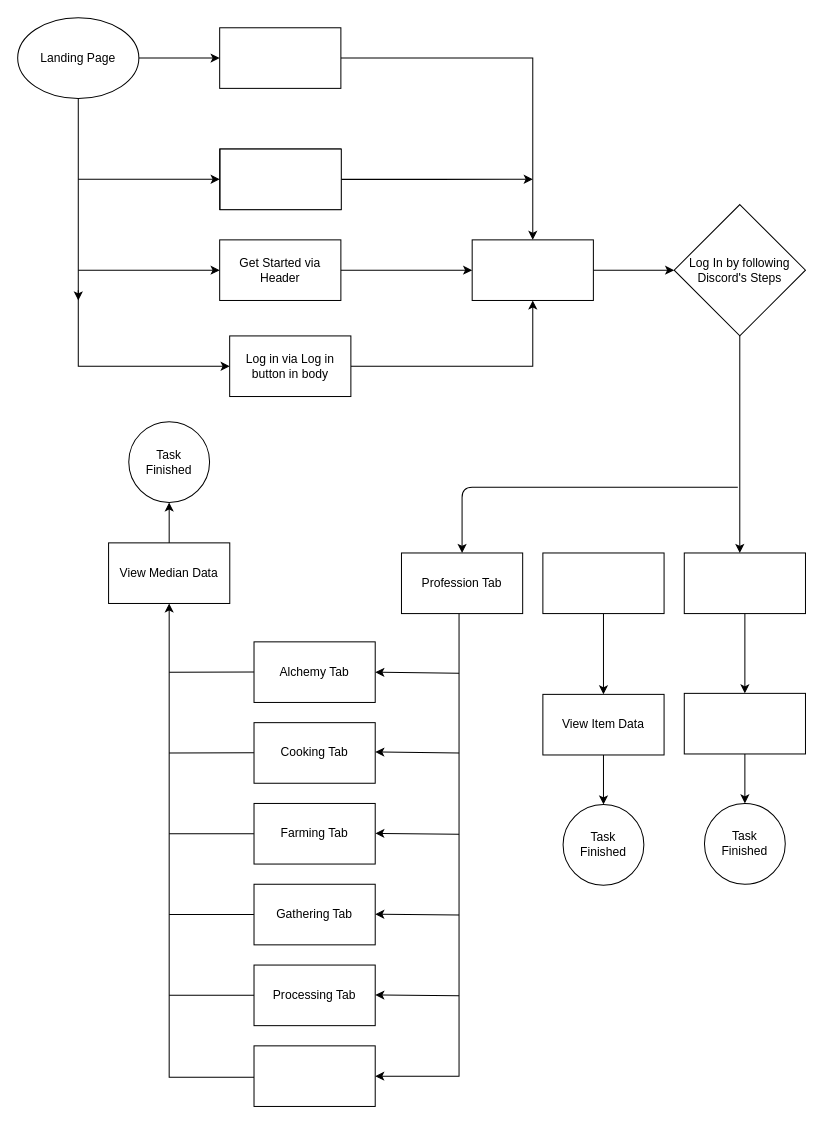
This 823x1124 diagram has some shape labels left out. Here are the shapes that lost their labels. From the top down, the box of each, then its label:
(219, 27, 341, 88): Log In via Header
(219, 148, 341, 210): Home via header
(471, 239, 593, 300): Log in with Discord Button
(542, 552, 664, 614): Item list Tab
(683, 552, 805, 614): Optimization Tab
(683, 692, 805, 754): View Top 10 List
(253, 1045, 375, 1106): Trading Tab
